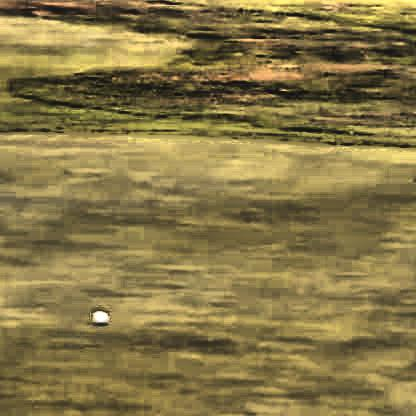golfball: (90, 309, 108, 322)
